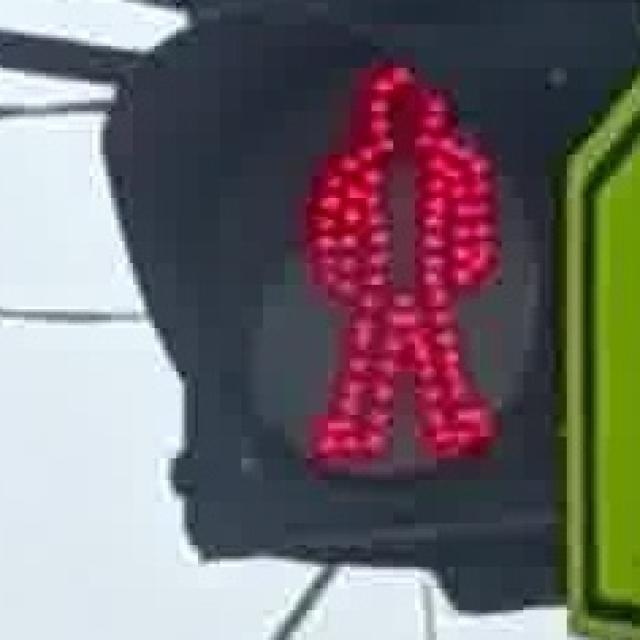red-crossing: (274, 38, 521, 464)
